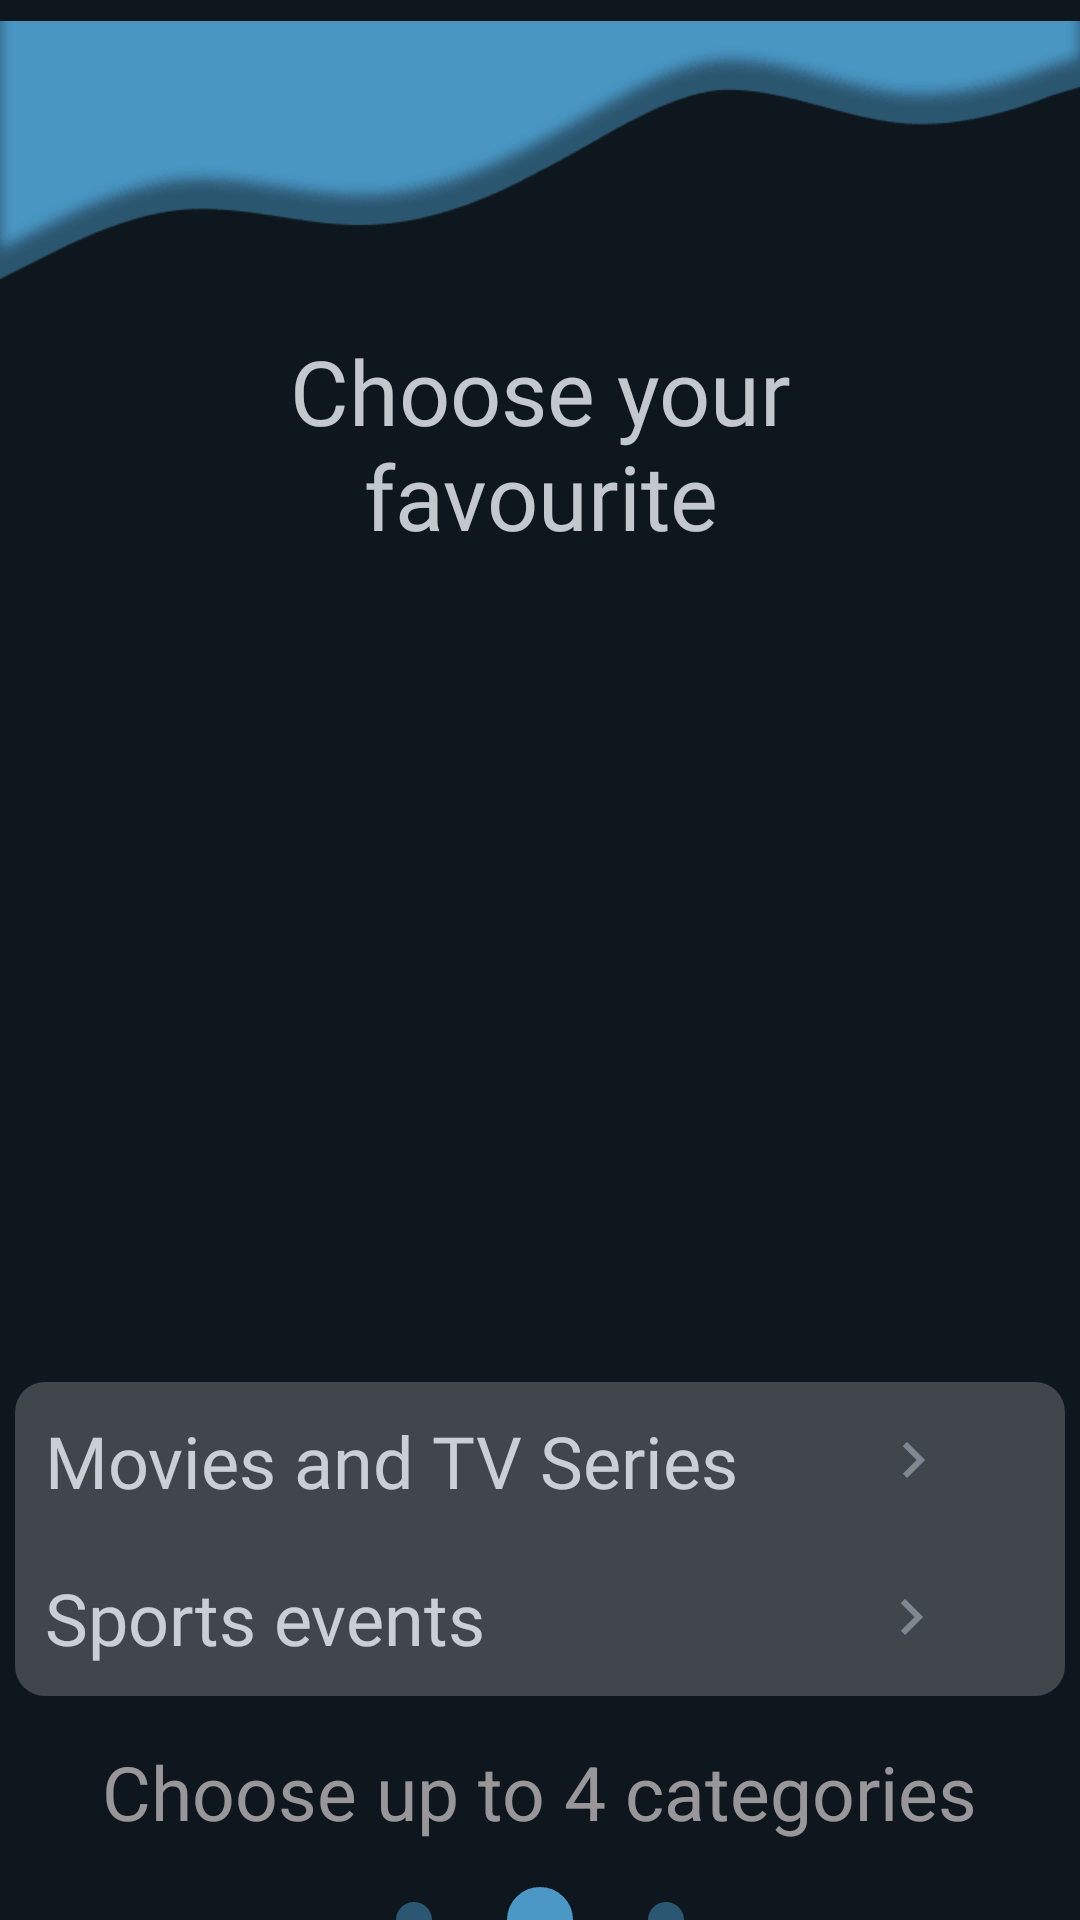

Named icons in this screenshot (1080 x 1920) and their centers, point (x, y):
keyboard arrow right: point (914, 1460), point (912, 1617)
